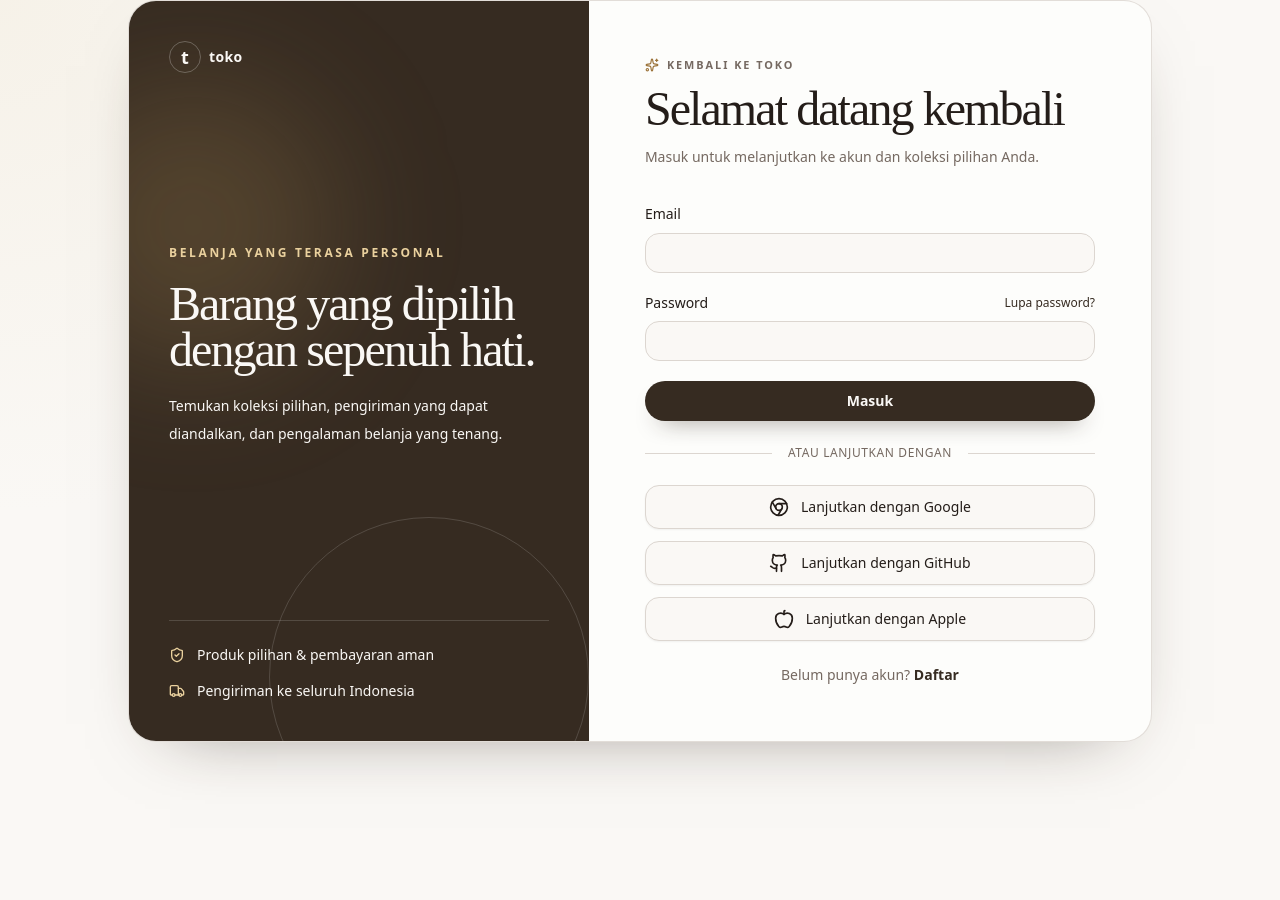
Test: LoginPage › displays error message on login failure
This screenshot has width=1280, height=900.
Expected: the heading "Selamat datang kembali" is shown, 645,85 -> 1095,133
Type "test@example.com" into the field labelled "Email".
click(870, 253); type("test@example.com")  # box 645,233 -> 1095,273
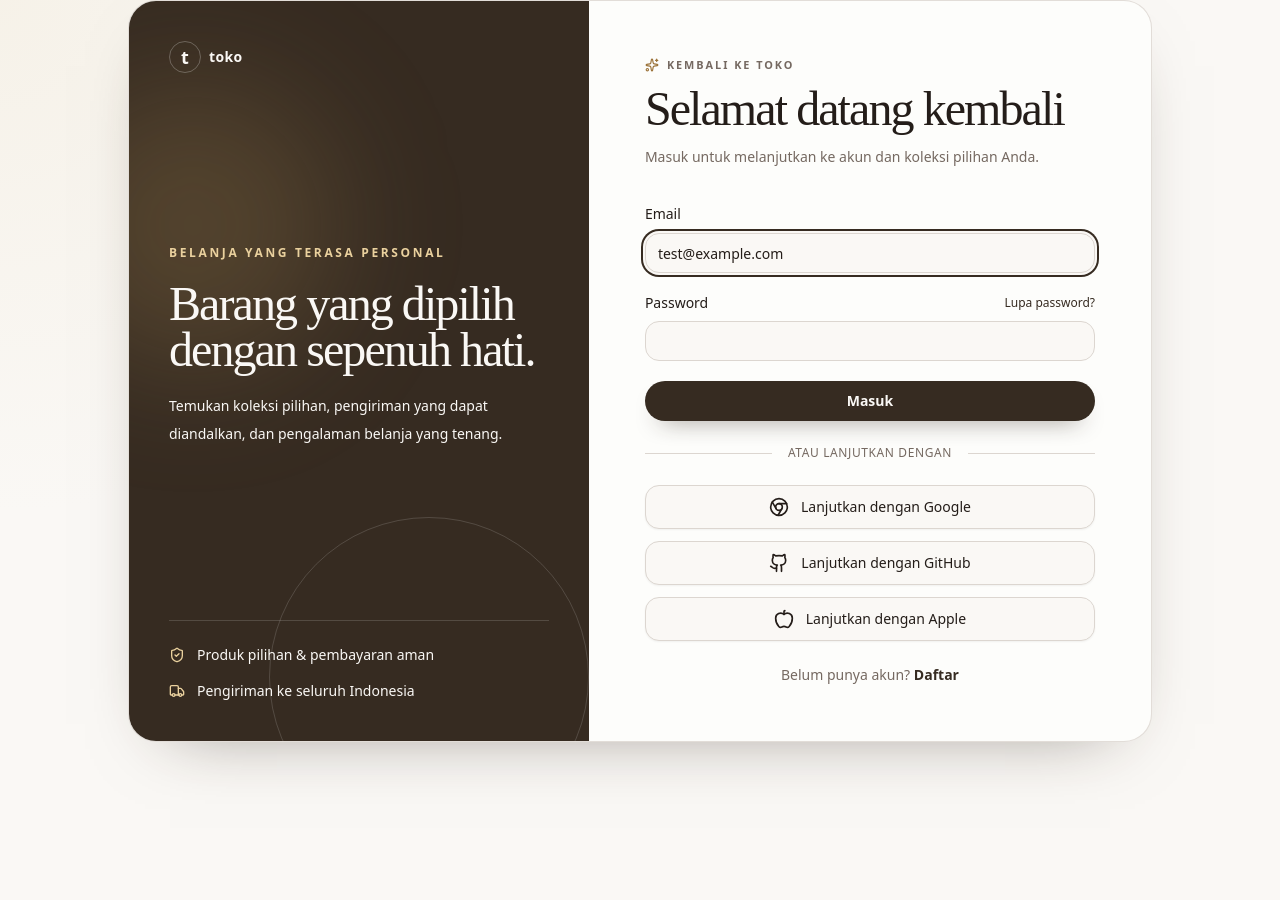
Type "wrongpassword" into the password field labelled "Password".
click(870, 341); type("wrongpassword")  # box 645,321 -> 1095,361
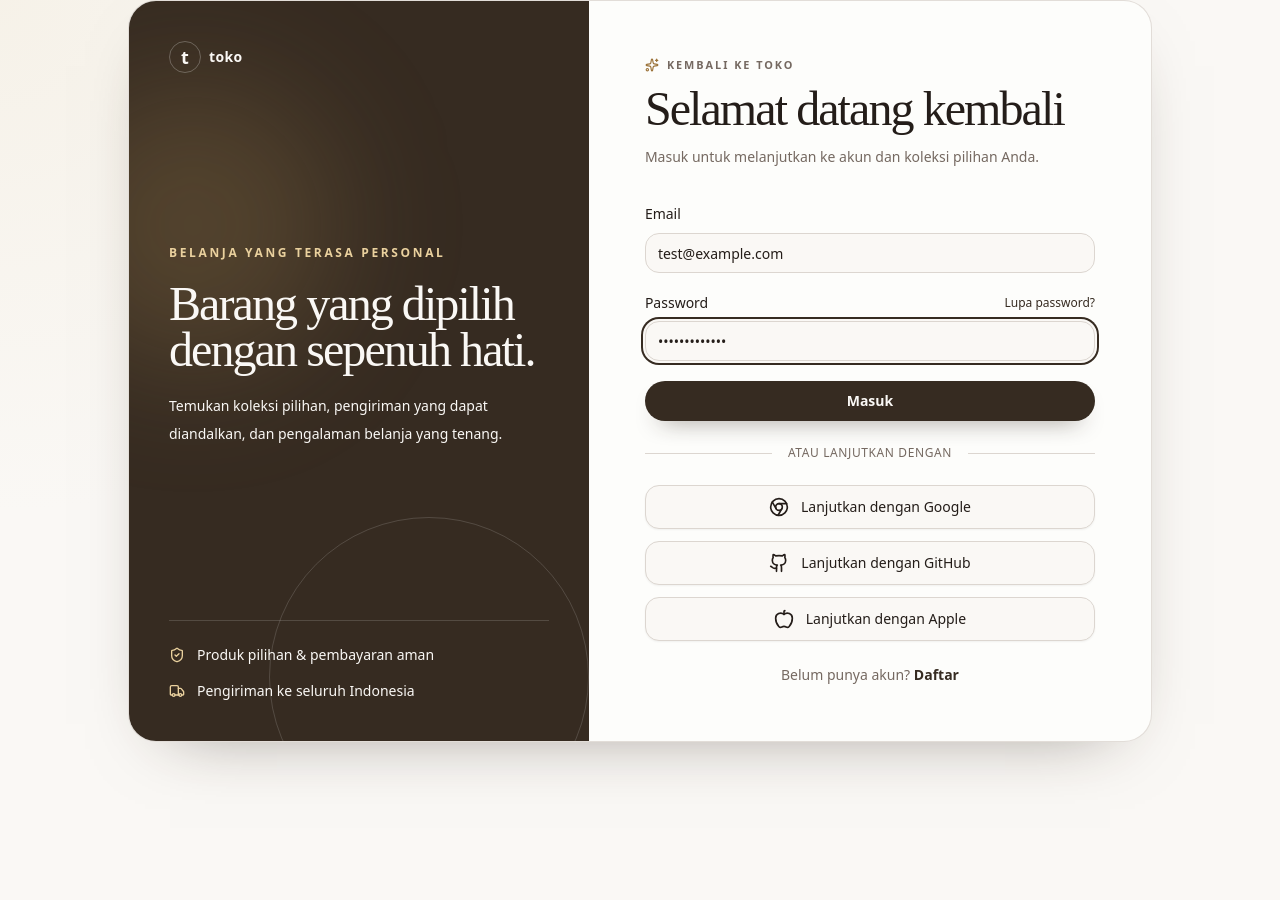
Click the button with test id "login-submit".
click(870, 401)  # box 645,381 -> 1095,421
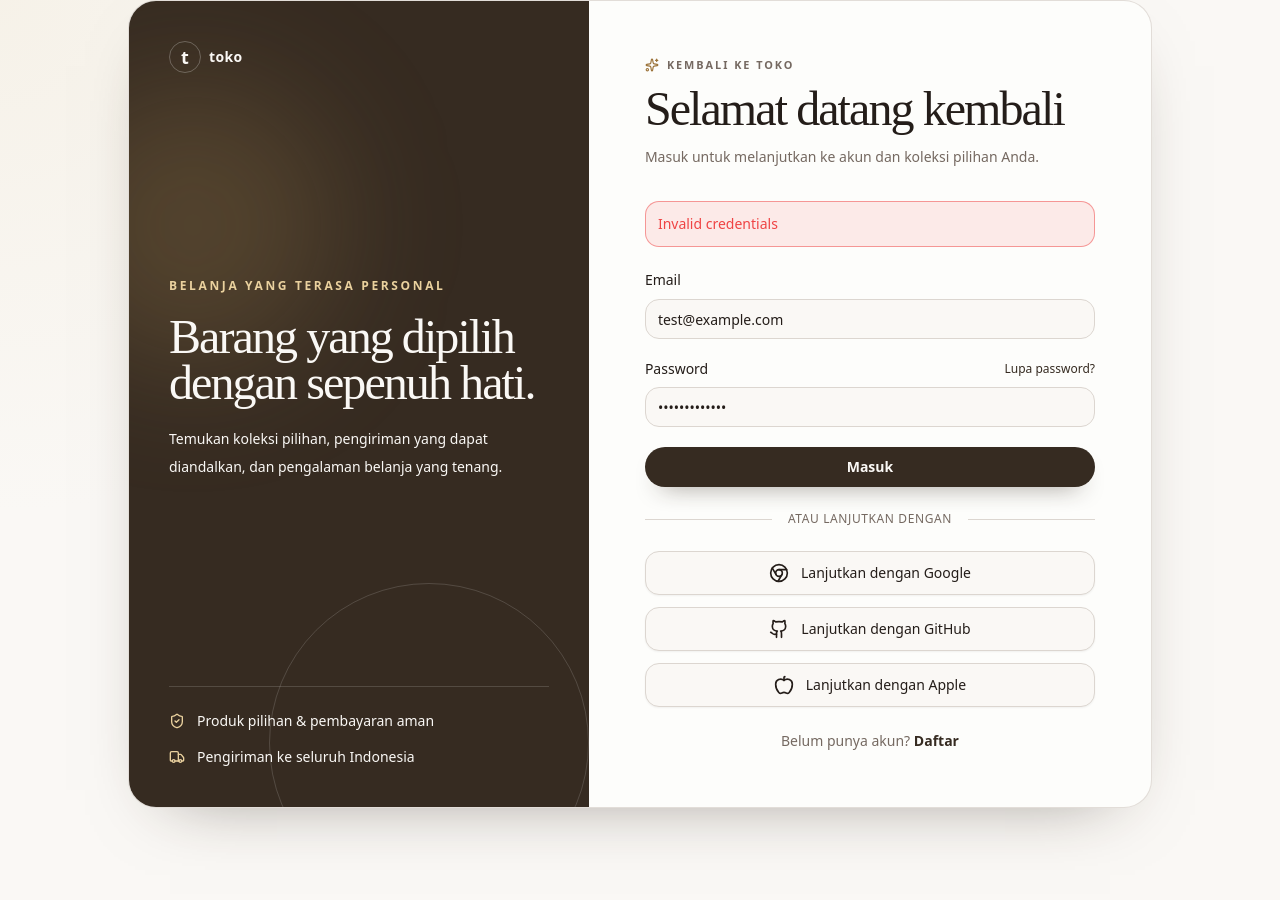
Expected: the message reads "Invalid credentials", 658,214 -> 778,233
